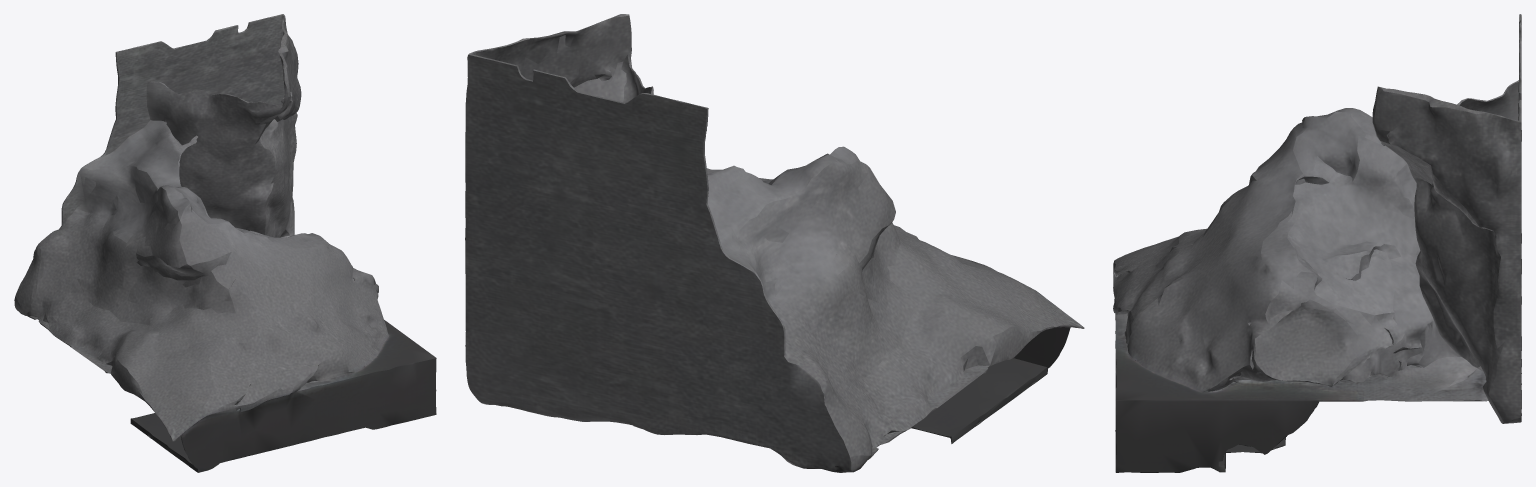
File: tex_mesh.glb
The picture shows the model from 3 angles, left to right: view 1: azimuth 30°, elevation 25°; view 2: azimuth 150°, elevation 25°; view 3: azimuth 270°, elevation 25°; orthographic projection. The views are drawn at different scales.
Visible parts, largest first — view 1: world; view 2: world; view 3: world.
Part boxes in pixels (x1=…): world: x1=14, y1=14, x2=436, y2=472; world: x1=465, y1=14, x2=1084, y2=472; world: x1=1113, y1=14, x2=1521, y2=472.
Size of the model in its own units: 0.35 by 0.3421 by 0.3519.
Materials: 1 (1 with a texture image).
